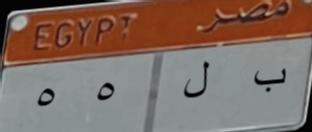5: (29, 85, 60, 113), (93, 78, 118, 106)
baa: (251, 63, 288, 99)
laam: (183, 58, 213, 104)
